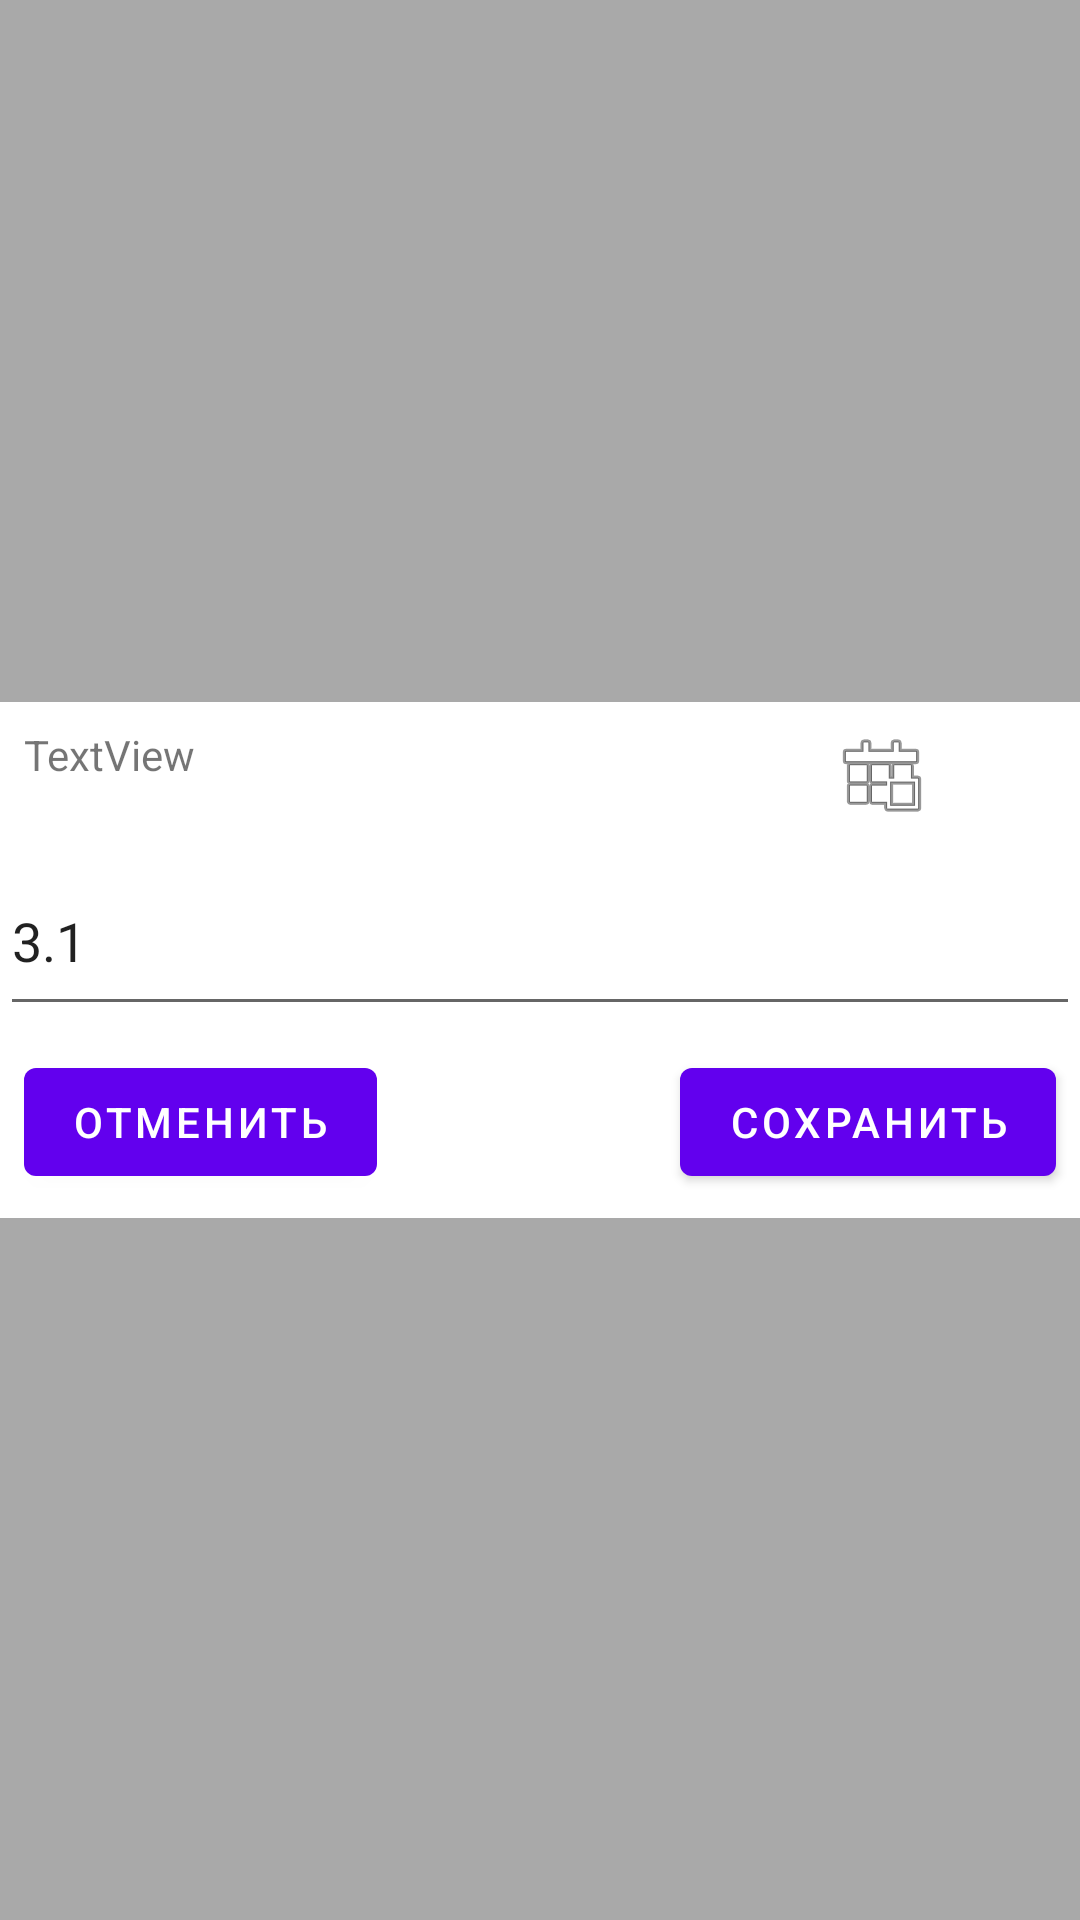

Locate icon controls on the screen. Image size 1080x1920, boxes as (x1, y1, x2, y2).
today: (843, 739, 921, 812)
